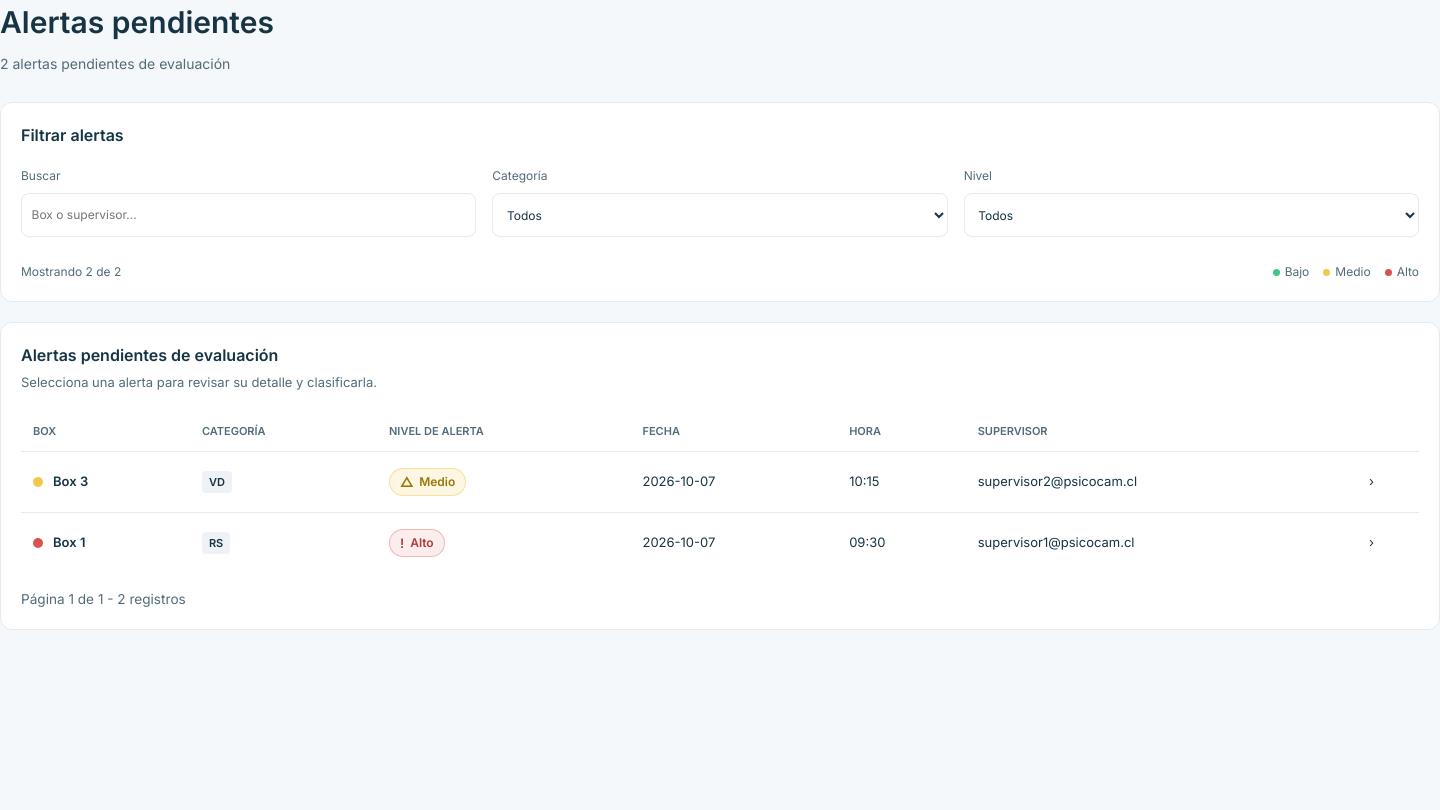
Scenario: SCRUM-602 - Página Alertas › solicita la transcripción al abrirla y muestra el contenido autorizado
The width and height of the screenshot is (1440, 810).
Step 1. Click the text "supervisor1@psicocam.cl" → x=1056, y=542, box x1=966 y1=512 x2=1357 y2=573
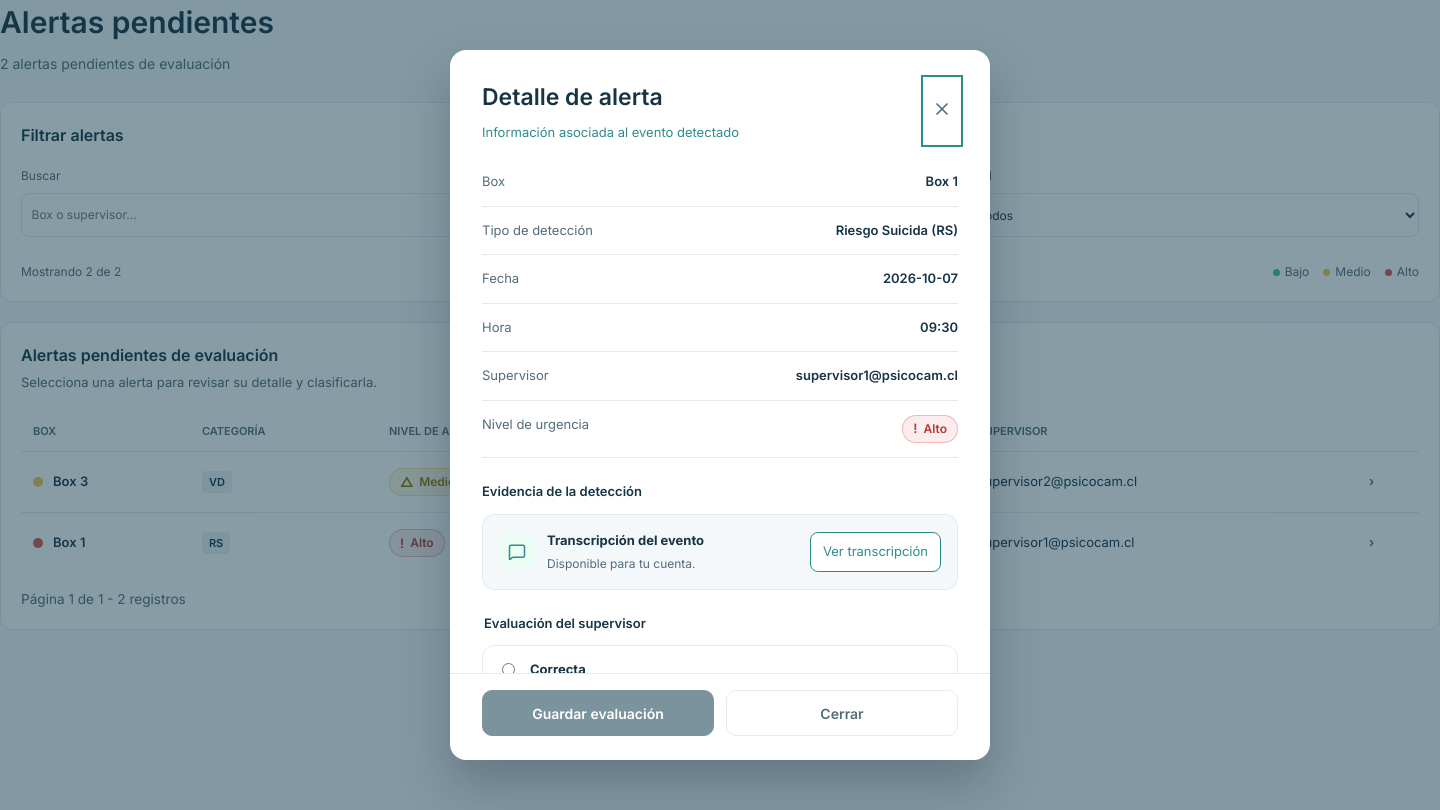
Step 2. Click the button "Ver transcripción" → x=875, y=552, box x1=810 y1=532 x2=941 y2=572
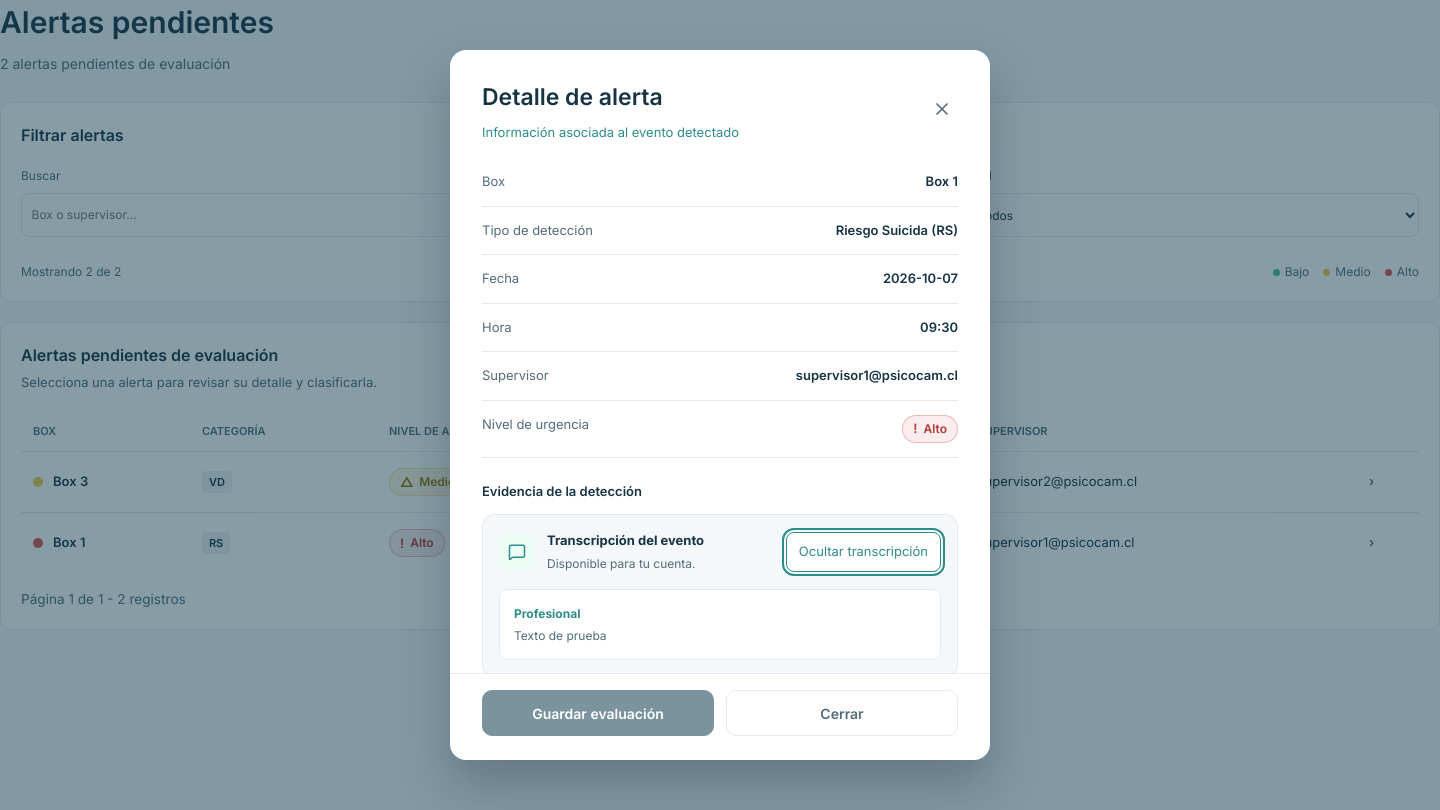
Expected: the text "Texto de prueba" is shown, x1=514 y1=628 x2=607 y2=643
Step 3. Click the button "Ocultar transcripción" → x=863, y=552, box x1=786 y1=532 x2=941 y2=572
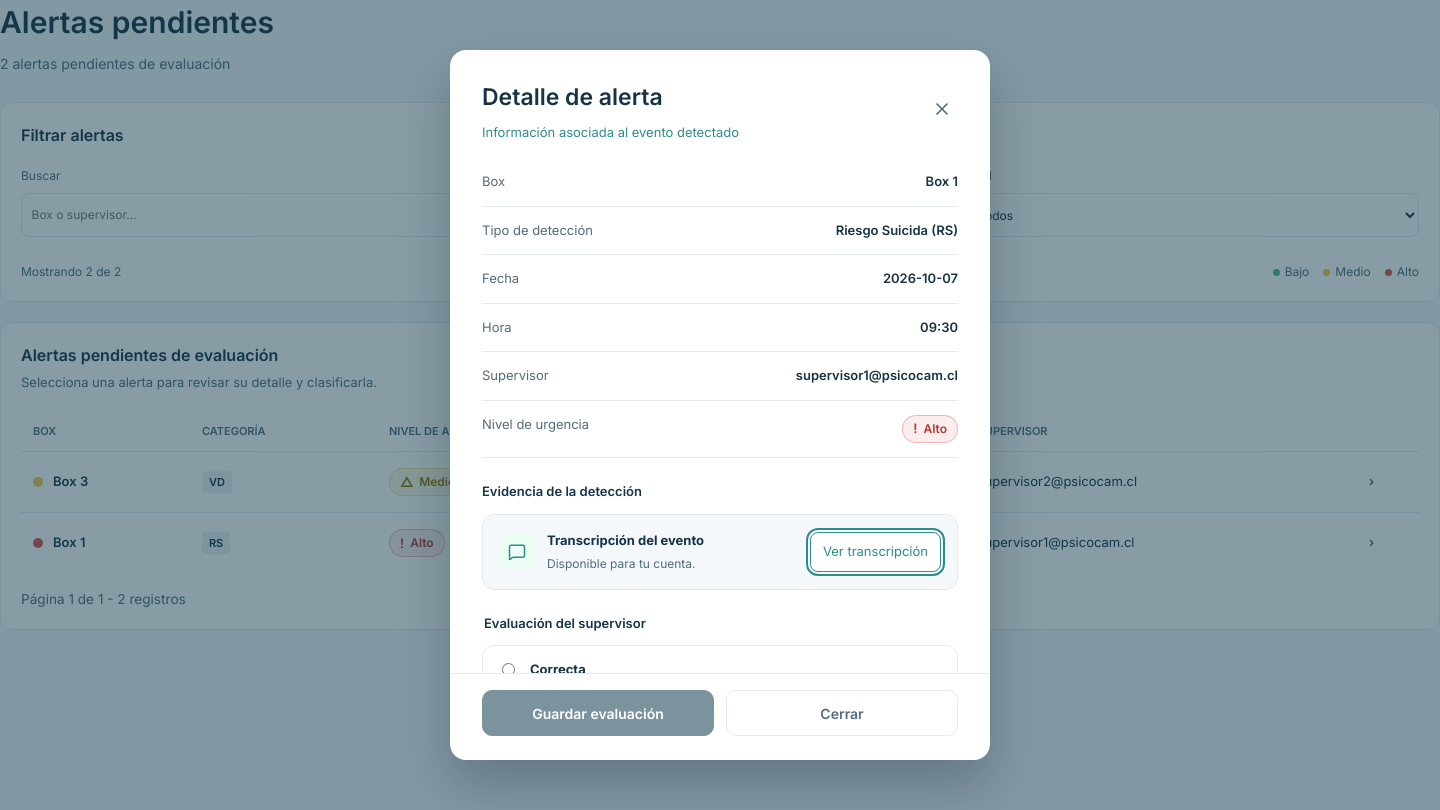
Expected: the text "Texto de prueba" is gone
